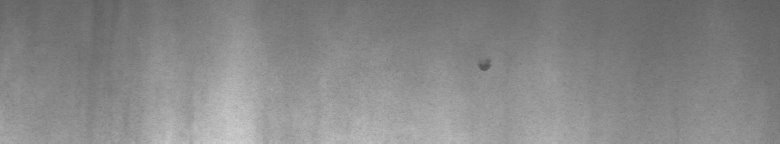fi: (476, 56, 495, 76)
